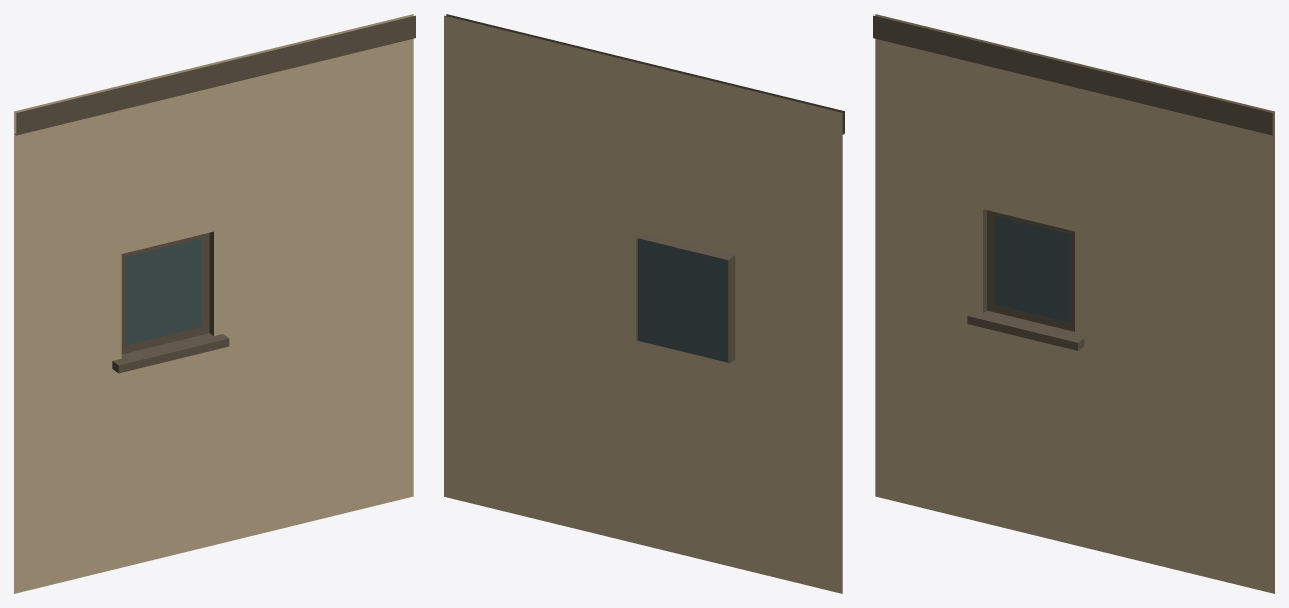
Rendered from top-w2.fbx.
3 renders of one model, left to right at view 1: azimuth 30°, elevation 25°; view 2: azimuth 150°, elevation 25°; view 3: azimuth 330°, elevation 25°, orthographic.
Parts seen in each view (by area): view 1: a2015/0/top-w2; view 2: a2015/0/top-w2; view 3: a2015/0/top-w2.
Boxes of the visible parts, bbox=[...] form: a2015/0/top-w2: bbox=[14, 14, 415, 593]; a2015/0/top-w2: bbox=[444, 14, 844, 593]; a2015/0/top-w2: bbox=[873, 14, 1274, 593].
Size of the model in its own units: 2.6 by 3 by 0.15.
